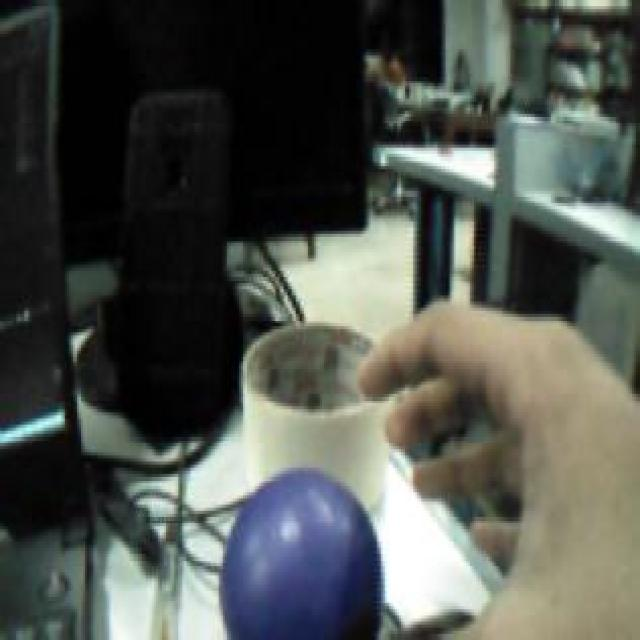BallPurple: (222, 467, 383, 640)
